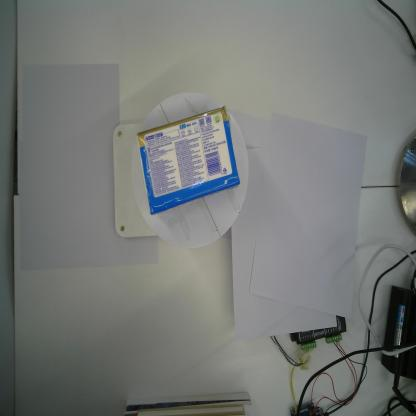Tissue: (137, 102, 240, 216)
